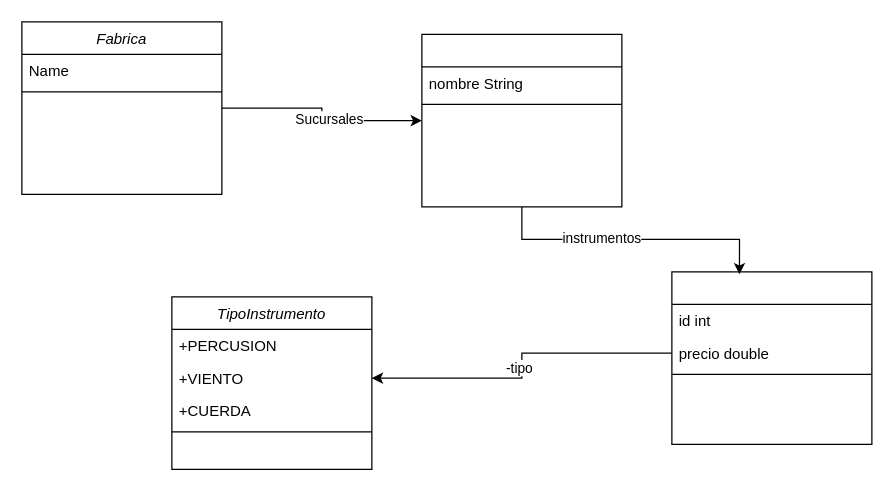
Some shapes in this 894 by 491 pixel diagram are drawn without their labels. The box of each missing label's shape, as (x1, y1, x2, y2) in pixels:
Instrumento: (671, 271, 872, 444)
Sucursal: (421, 33, 622, 207)
